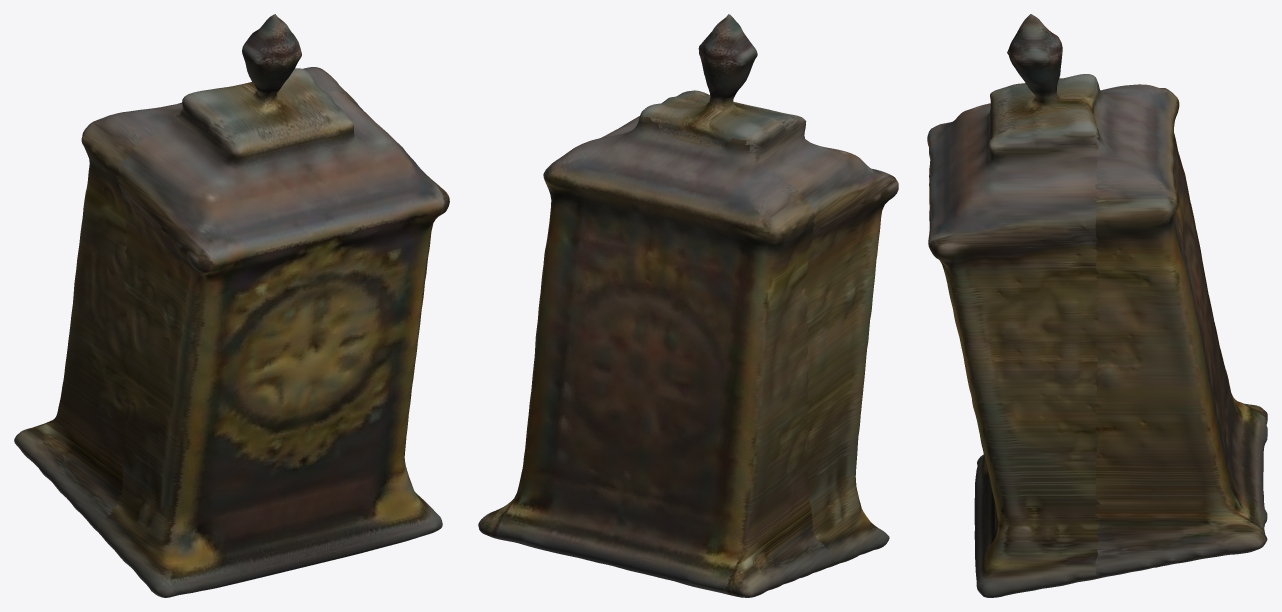
Rendered from kfl-2140.glb.
3 views of the same model, side by side, from view 1: azimuth 30°, elevation 25°; view 2: azimuth 150°, elevation 25°; view 3: azimuth 270°, elevation 25° (orthographic). The views are drawn at different scales.
Visible parts, largest first — view 1: geometry_0; view 2: geometry_0; view 3: geometry_0.
Boxes of the visible parts, box(x1,y1,x2,y2) form: geometry_0: box(14, 14, 449, 597); geometry_0: box(478, 14, 898, 597); geometry_0: box(927, 14, 1267, 597).
Bounding box in the file's own units: 0.5579 × 0.9895 × 0.5863.
Materials: 1 (1 with a texture image).
